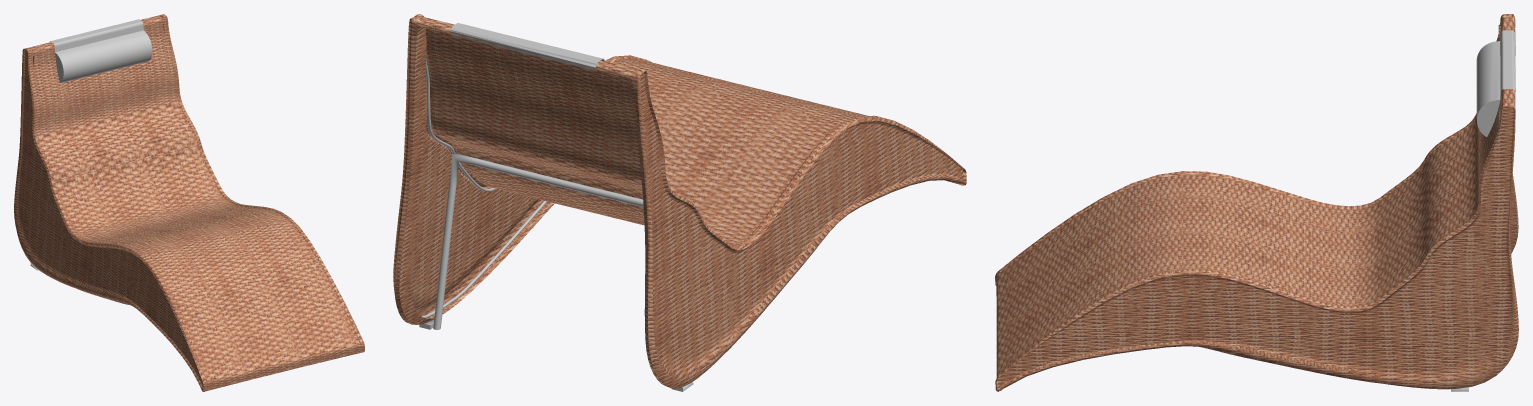
The model's file is IKEA-Karlskrona_Lounger_Chair-3D.FBX.
3 views of the same model, side by side, from view 1: azimuth 30°, elevation 25°; view 2: azimuth 150°, elevation 25°; view 3: azimuth 270°, elevation 25° (orthographic). The views are drawn at different scales.
Parts seen in each view (by area): view 1: Box01; view 2: Box01; view 3: Box01.
Boxes of the visible parts, left/top/right/bottom form: Box01: left=14, top=14, right=364, bottom=391; Box01: left=393, top=14, right=966, bottom=391; Box01: left=995, top=14, right=1518, bottom=391.
Size of the model in its own units: 0.7386 by 1.5 by 0.8807.
